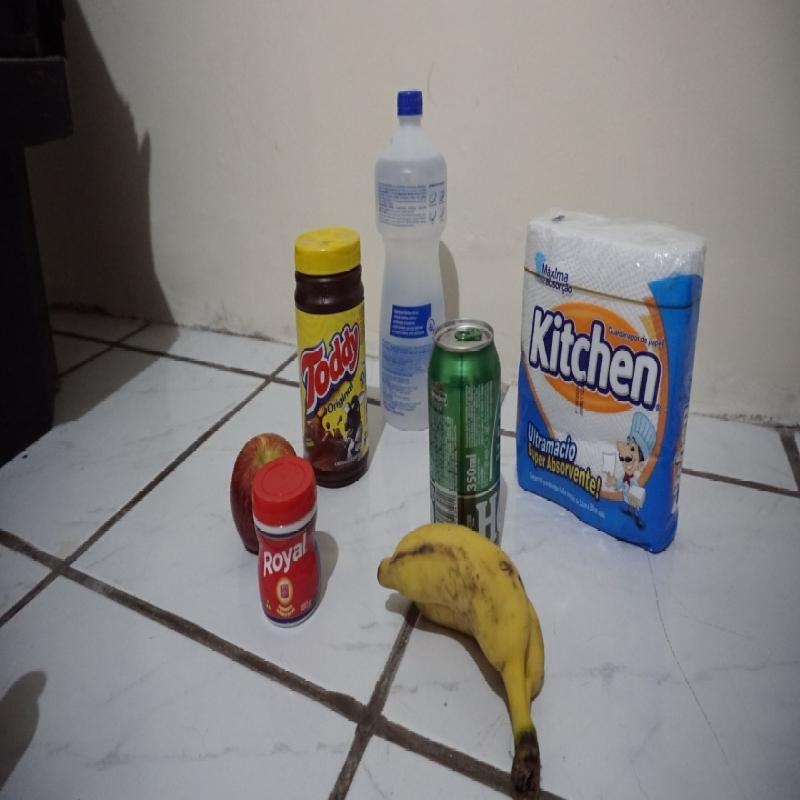Alcohol Bottle: (375, 90, 449, 430)
Apple: (232, 430, 300, 554)
Banana: (379, 525, 549, 797)
Beer can: (429, 317, 501, 543)
Chocolate Powder: (293, 229, 370, 490)
Napkin: (518, 207, 706, 550)
Yeast: (253, 454, 324, 628)
